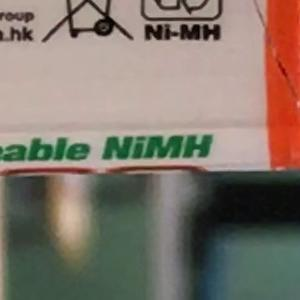keyword: (92, 125, 222, 170)
